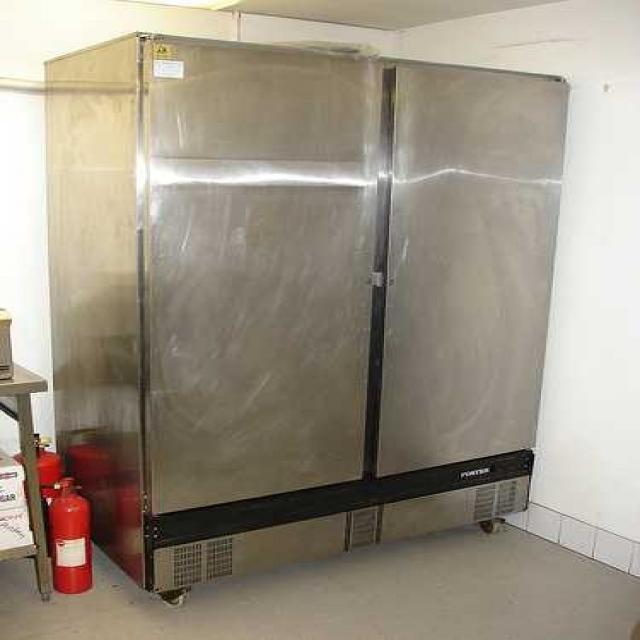refrigerator: (133, 29, 572, 598)
